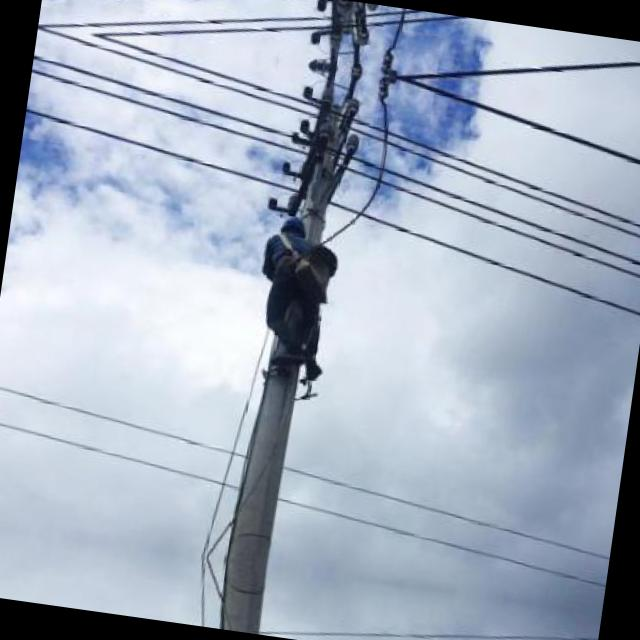helmet: (272, 212, 316, 250)
